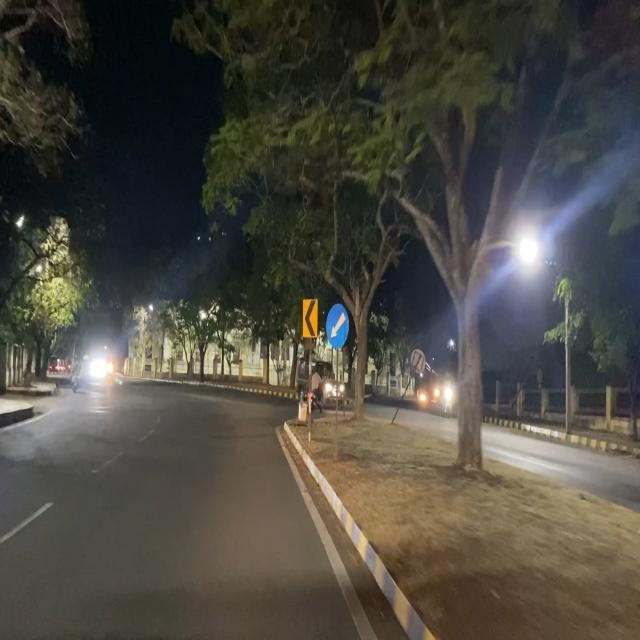bien_hieu_lenh: (326, 303, 349, 351)
